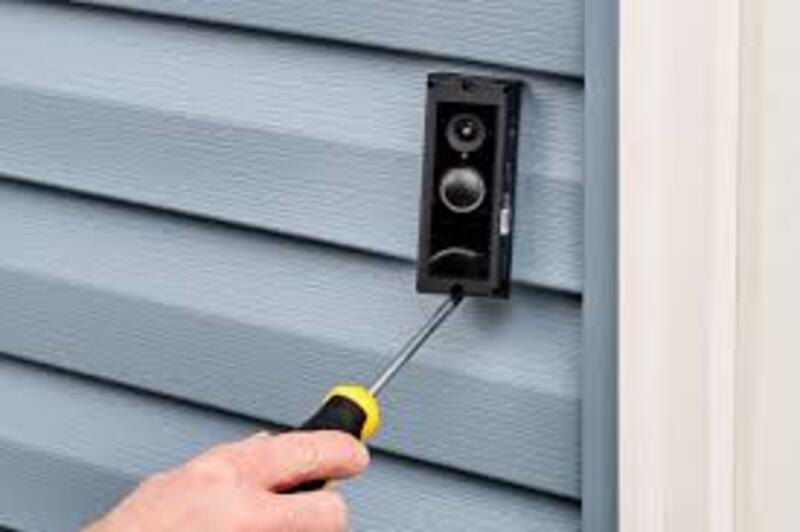doorbell: (418, 64, 517, 301)
